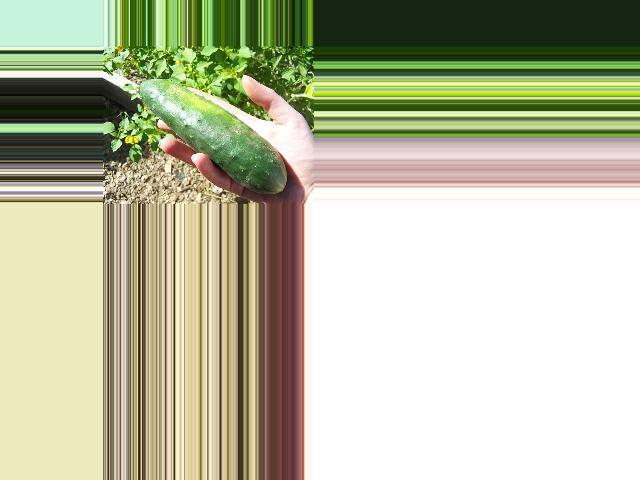cucumber: (138, 79, 285, 193)
